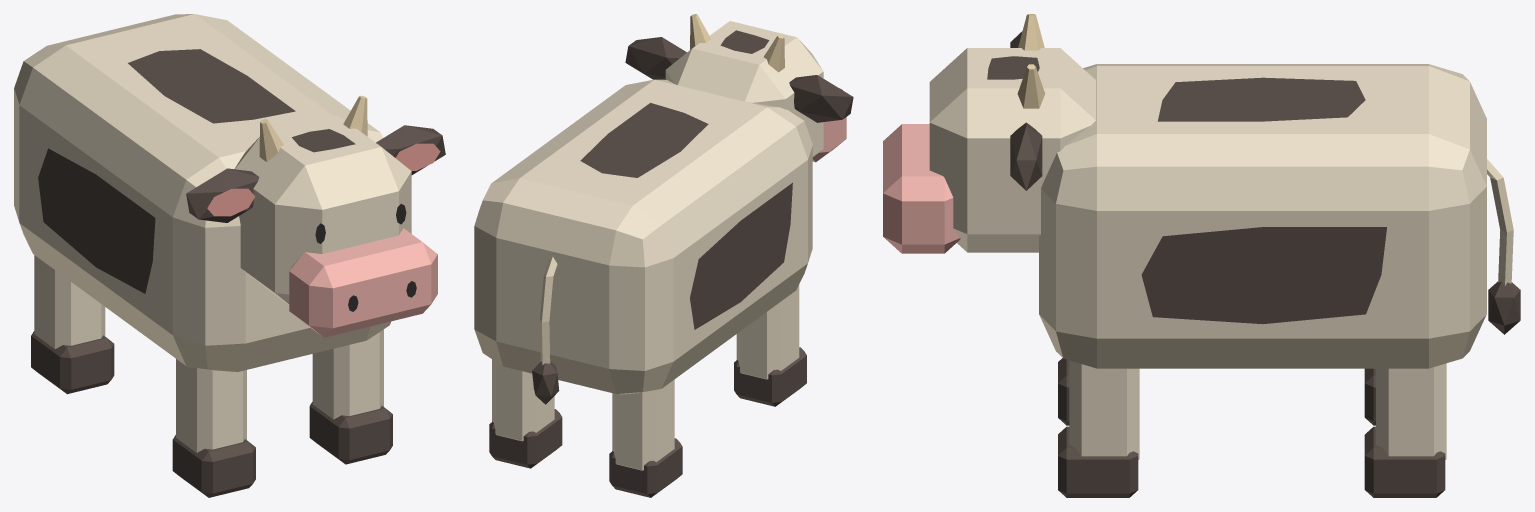
File: Cow.glb
The picture shows the model from 3 angles, left to right: view 1: azimuth 30°, elevation 25°; view 2: azimuth 150°, elevation 25°; view 3: azimuth 270°, elevation 25°; orthographic projection. The views are drawn at different scales.
Visible parts, largest first — view 1: Body, Skull, Muzzle, Limb_FR, Limb_FL, Limb_BR, Hoof_BR, Hoof_FR, Hoof_FL, EarShape_R, EarShape_L, EarInner_R (+3 smaller); view 2: Body, Skull, Limb_BR, Limb_FR, Limb_BL, Hoof_BL, Hoof_BR, Hoof_FR, EarShape_R, EarShape_L, TailStem, TailTuft (+3 smaller); view 3: Body, Skull, Muzzle, Limb_FL, Limb_BL, Hoof_BL, Hoof_FL, EarShape_L, TailStem, TailTuft, Horn_L, Hoof_FR.
Boxes of the visible parts, <box> form: Body: <box>14,14,391,371</box>; Skull: <box>234,115,411,305</box>; Muzzle: <box>289,228,437,337</box>; Limb_FR: <box>176,359,246,452</box>; Limb_FL: <box>312,329,383,419</box>; Limb_BR: <box>34,255,105,348</box>; Hoof_BR: <box>31,331,114,394</box>; Hoof_FR: <box>172,435,255,497</box>; Hoof_FL: <box>309,402,392,464</box>; EarShape_R: <box>186,168,259,222</box>; EarShape_L: <box>376,125,445,174</box>; EarInner_R: <box>207,188,255,216</box>; Body: <box>474,79,812,394</box>; Skull: <box>665,21,823,157</box>; Limb_BR: <box>612,379,674,470</box>; Limb_FR: <box>736,284,799,379</box>; Limb_BL: <box>492,359,554,441</box>; Hoof_BL: <box>489,409,562,468</box>; Hoof_BR: <box>609,438,682,497</box>; Hoof_FR: <box>734,347,806,406</box>; EarShape_R: <box>789,75,853,122</box>; EarShape_L: <box>625,37,686,79</box>; TailStem: <box>540,257,557,364</box>; TailTuft: <box>532,361,559,404</box>; Body: <box>1039,64,1486,368</box>; Skull: <box>929,48,1095,252</box>; Muzzle: <box>883,124,960,253</box>; Limb_FL: <box>1069,360,1139,459</box>; Limb_BL: <box>1376,363,1446,459</box>; Hoof_BL: <box>1364,426,1445,497</box>; Hoof_FL: <box>1058,426,1138,497</box>; EarShape_L: <box>1010,122,1042,190</box>; TailStem: <box>1487,159,1513,286</box>; TailTuft: <box>1488,281,1520,334</box>; Horn_L: <box>1017,64,1045,108</box>; Hoof_FR: <box>1058,358,1069,425</box>.
Size of the model in its own units: 1.29 by 1.8 by 2.54.
